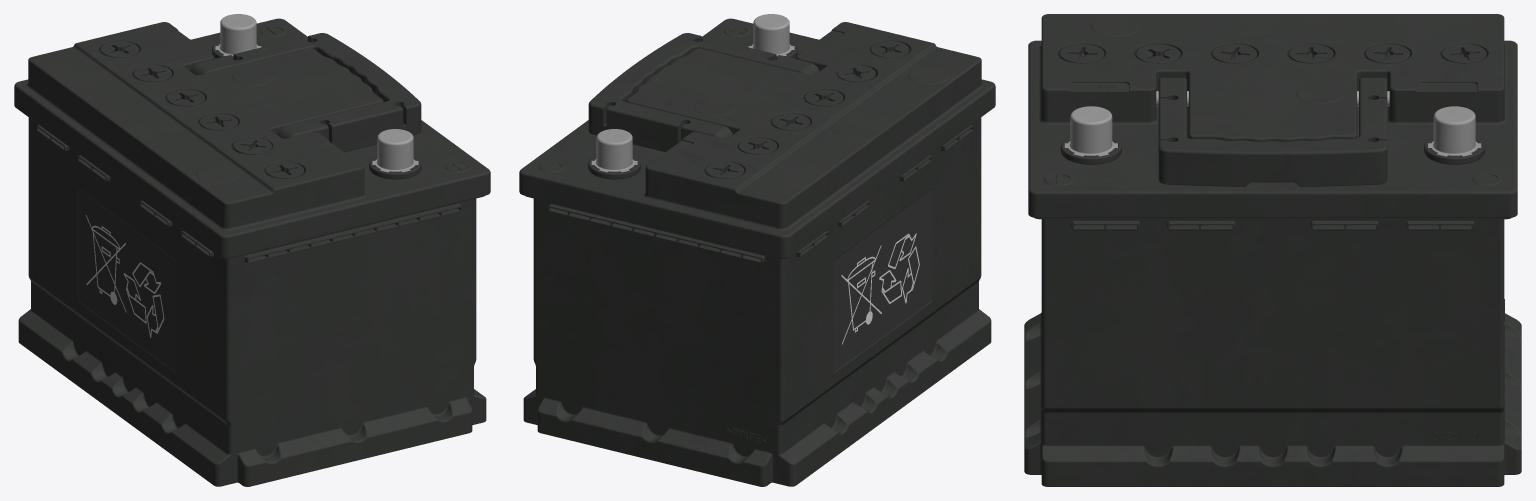
File: electricalSystem_battery_a01.glb
The picture shows the model from 3 angles, left to right: view 1: azimuth 30°, elevation 25°; view 2: azimuth 150°, elevation 25°; view 3: azimuth 270°, elevation 25°; orthographic projection. The views are drawn at different scales.
Visible parts, largest first — view 1: battery_01_mesh_00, handle_01_mesh_00; view 2: battery_01_mesh_00, handle_01_mesh_00; view 3: battery_01_mesh_00, handle_01_mesh_00.
Part boxes in pixels (left/top/right/bottom): battery_01_mesh_00: left=14, top=14, right=490, bottom=486; handle_01_mesh_00: left=190, top=33, right=421, bottom=152; battery_01_mesh_00: left=519, top=14, right=995, bottom=486; handle_01_mesh_00: left=588, top=33, right=819, bottom=152; battery_01_mesh_00: left=1024, top=14, right=1521, bottom=486; handle_01_mesh_00: left=1158, top=77, right=1387, bottom=186.
Bounding box in the file's own units: 0.19 × 0.1919 × 0.26.
Materials: 4 (2 with a texture image).
